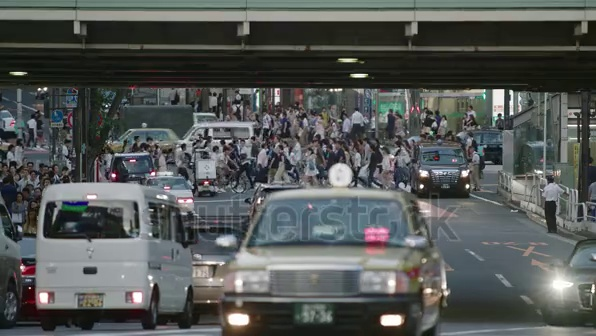licenseplate: (297, 301, 337, 329), (75, 294, 102, 307)
